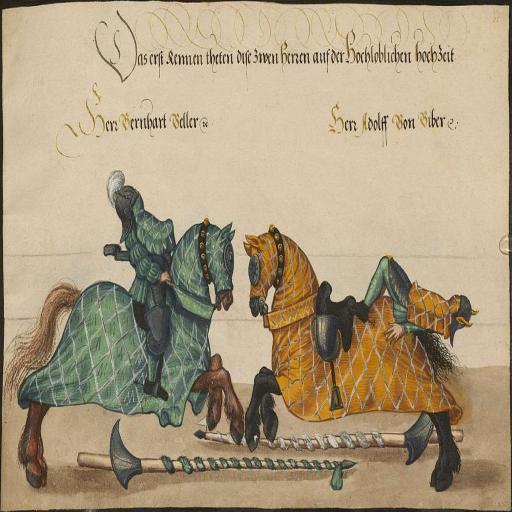horse: (2, 224, 244, 490), (242, 224, 466, 492)
